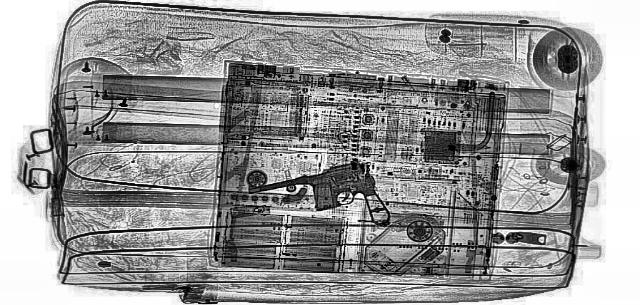Gun: (240, 160, 428, 242)
